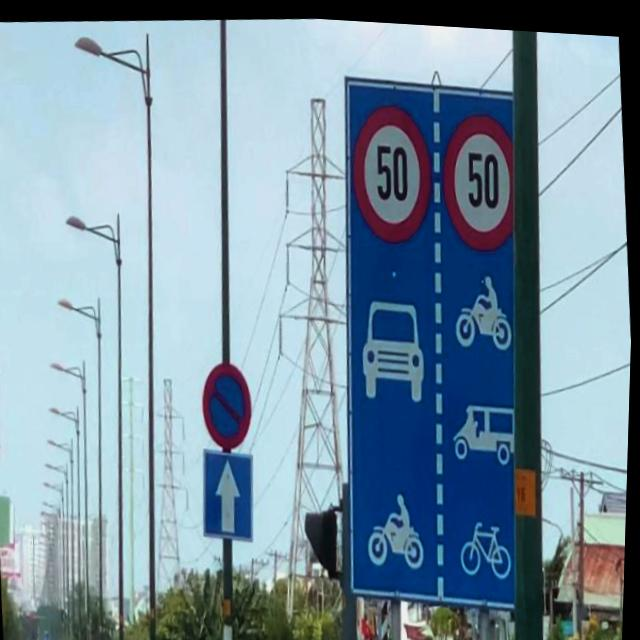Cam do xe: (200, 356, 258, 447)
Duong mot chieu: (200, 441, 260, 541)
